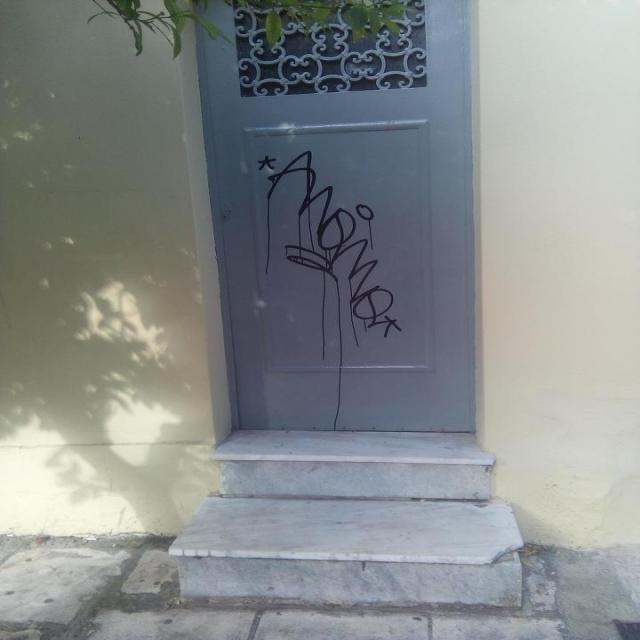nonspitting: (256, 152, 402, 338)
